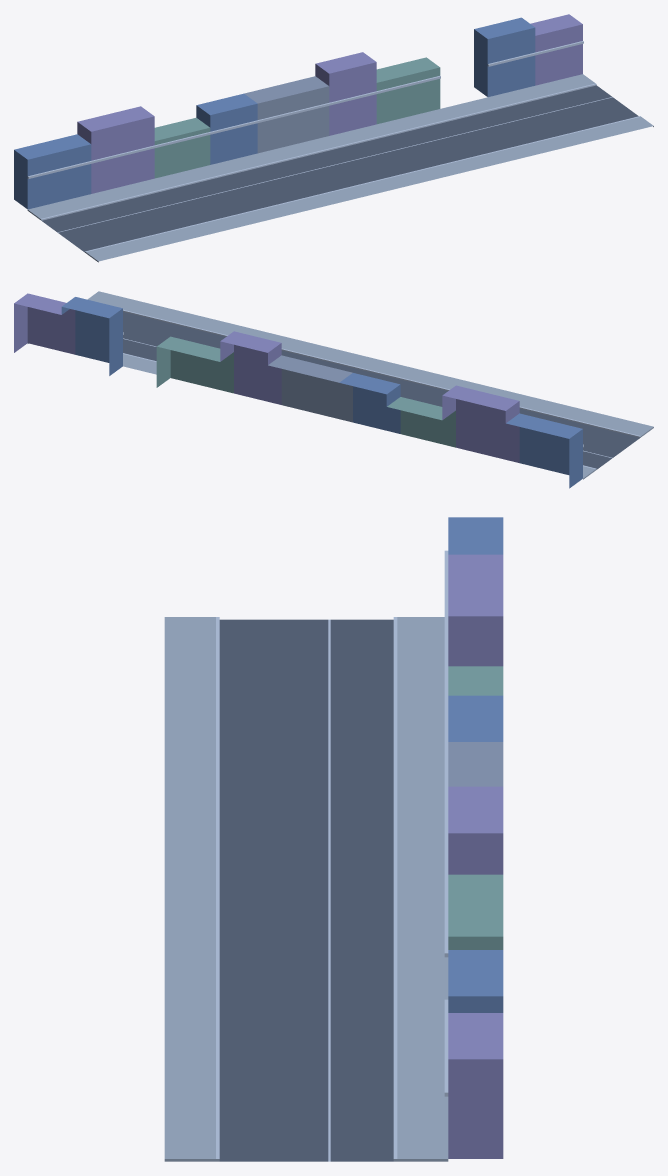
The model's file is Sokak_Yerlesim_11Ekim.obj.
The picture shows the model from 3 angles, top to bottom: view 1: azimuth 30°, elevation 25°; view 2: azimuth 150°, elevation 25°; view 3: azimuth 270°, elevation 25°; orthographic projection. The views are drawn at different scales.
Parts seen in each view (by area): view 1: ARCH_Sokak__Yol, ARCH_Sokak__Kaldirim_Karsi, ARCH_Sokak__Kaldirim_Yakin, ARCH_KarsiCephe_Yer__Blok_02, ARCH_KarsiCephe_Yer__Blok_01, ARCH_KarsiCephe_Yer__Blok_05, ARCH_KarsiCephe_Yer__Blok_08, ARCH_KarsiCephe_Yer__Blok_06, ARCH_KarsiCephe_Yer__Blok_07, ARCH_KarsiCephe_Yer__Blok_04, ARCH_KarsiCephe_Yer__Blok_09, ARCH_KarsiCephe_Yer__Blok_03; view 2: ARCH_Sokak__Kaldirim_Yakin, ARCH_Sokak__Yol, ARCH_KarsiCephe_Yer__Blok_02, ARCH_KarsiCephe_Yer__Blok_05, ARCH_KarsiCephe_Yer__Blok_01, ARCH_KarsiCephe_Yer__Blok_06, ARCH_KarsiCephe_Yer__Blok_07, ARCH_KarsiCephe_Yer__Blok_08, ARCH_KarsiCephe_Yer__Blok_09, ARCH_KarsiCephe_Yer__Blok_04, ARCH_KarsiCephe_Yer__Blok_03, ARCH_Sokak__Kaldirim_Karsi; view 3: ARCH_Sokak__Yol, ARCH_Sokak__Kaldirim_Yakin, ARCH_Sokak__Kaldirim_Karsi, ARCH_KarsiCephe_Yer__Blok_09, ARCH_KarsiCephe_Yer__Blok_02, ARCH_KarsiCephe_Yer__Blok_06, ARCH_KarsiCephe_Yer__Blok_07, ARCH_KarsiCephe_Yer__Blok_08, ARCH_KarsiCephe_Yer__Blok_05, ARCH_KarsiCephe_Yer__Blok_04, ARCH_KarsiCephe_Yer__Blok_01, ARCH_KarsiCephe_Yer__Blok_03.
Part boxes in pixels (left/top/right/bottom): ARCH_Sokak__Yol: left=42, top=85, right=638, bottom=252; ARCH_Sokak__Kaldirim_Karsi: left=27, top=74, right=596, bottom=220; ARCH_Sokak__Kaldirim_Yakin: left=85, top=116, right=653, bottom=262; ARCH_KarsiCephe_Yer__Blok_02: left=77, top=106, right=155, bottom=193; ARCH_KarsiCephe_Yer__Blok_01: left=14, top=134, right=91, bottom=209; ARCH_KarsiCephe_Yer__Blok_05: left=244, top=76, right=329, bottom=153; ARCH_KarsiCephe_Yer__Blok_08: left=474, top=17, right=536, bottom=96; ARCH_KarsiCephe_Yer__Blok_06: left=315, top=52, right=377, bottom=135; ARCH_KarsiCephe_Yer__Blok_07: left=376, top=57, right=440, bottom=124; ARCH_KarsiCephe_Yer__Blok_04: left=196, top=93, right=258, bottom=164; ARCH_KarsiCephe_Yer__Blok_09: left=530, top=14, right=583, bottom=85; ARCH_KarsiCephe_Yer__Blok_03: left=154, top=117, right=210, bottom=178; ARCH_Sokak__Kaldirim_Yakin: left=87, top=291, right=653, bottom=437; ARCH_Sokak__Yol: left=123, top=312, right=639, bottom=469; ARCH_KarsiCephe_Yer__Blok_02: left=442, top=385, right=519, bottom=462; ARCH_KarsiCephe_Yer__Blok_05: left=268, top=355, right=352, bottom=422; ARCH_KarsiCephe_Yer__Blok_01: left=506, top=413, right=583, bottom=488; ARCH_KarsiCephe_Yer__Blok_06: left=220, top=331, right=281, bottom=404; ARCH_KarsiCephe_Yer__Blok_07: left=156, top=336, right=233, bottom=393; ARCH_KarsiCephe_Yer__Blok_08: left=61, top=297, right=123, bottom=375; ARCH_KarsiCephe_Yer__Blok_09: left=14, top=293, right=75, bottom=354; ARCH_KarsiCephe_Yer__Blok_04: left=339, top=373, right=400, bottom=433; ARCH_KarsiCephe_Yer__Blok_03: left=387, top=397, right=455, bottom=447; ARCH_Sokak__Kaldirim_Karsi: left=27, top=343, right=596, bottom=479; ARCH_Sokak__Yol: left=219, top=619, right=393, bottom=1161; ARCH_Sokak__Kaldirim_Yakin: left=164, top=617, right=219, bottom=1161; ARCH_Sokak__Kaldirim_Karsi: left=393, top=617, right=448, bottom=1161; ARCH_KarsiCephe_Yer__Blok_09: left=444, top=1013, right=503, bottom=1158; ARCH_KarsiCephe_Yer__Blok_02: left=444, top=554, right=503, bottom=674; ARCH_KarsiCephe_Yer__Blok_06: left=444, top=786, right=503, bottom=891; ARCH_KarsiCephe_Yer__Blok_07: left=444, top=874, right=503, bottom=957; ARCH_KarsiCephe_Yer__Blok_08: left=444, top=950, right=503, bottom=1046; ARCH_KarsiCephe_Yer__Blok_05: left=444, top=742, right=503, bottom=844; ARCH_KarsiCephe_Yer__Blok_04: left=444, top=695, right=503, bottom=775; ARCH_KarsiCephe_Yer__Blok_01: left=444, top=517, right=503, bottom=612; ARCH_KarsiCephe_Yer__Blok_03: left=444, top=666, right=503, bottom=728.
Size of the model in its own units: 70 by 7.65 by 18.5.
